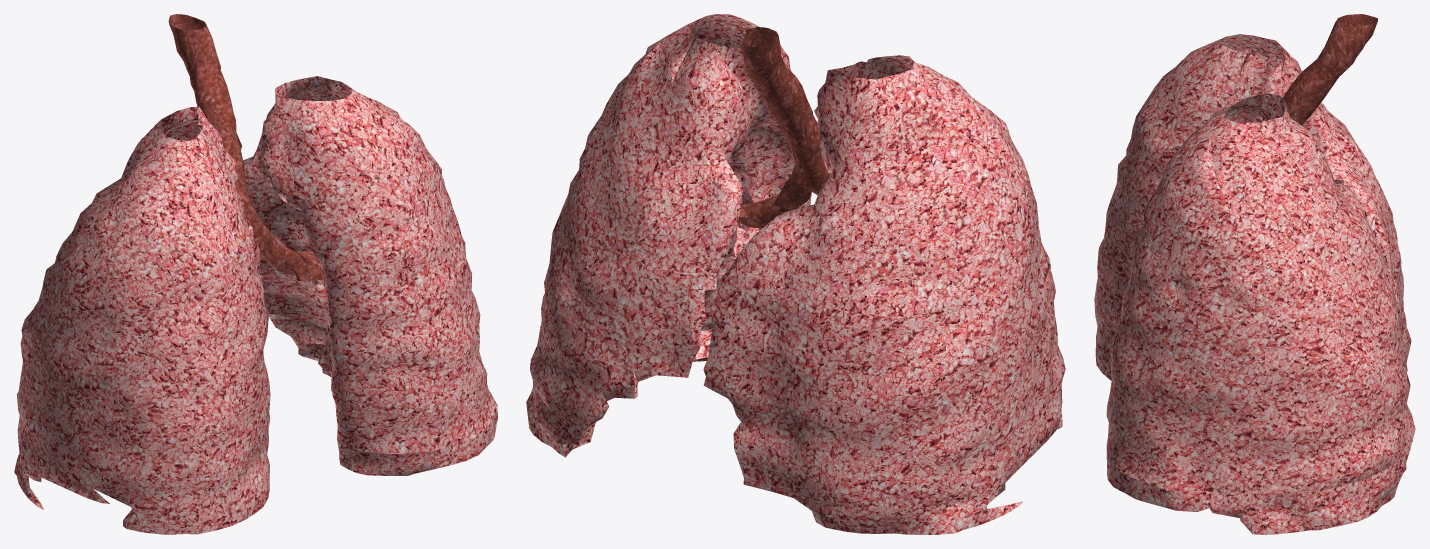
Rendered from lungs.dae.
3 renders of one model, left to right at view 1: azimuth 30°, elevation 25°; view 2: azimuth 150°, elevation 25°; view 3: azimuth 270°, elevation 25°, orthographic. The views are drawn at different scales.
Visible parts, largest first — view 1: group_0 (×3); view 2: group_0 (×3); view 3: group_0 (×3).
Part boxes in pixels (bbox=[...]): group_0 (×3): bbox=[14, 14, 497, 534]; group_0 (×3): bbox=[526, 14, 1065, 534]; group_0 (×3): bbox=[1094, 14, 1415, 534].
Size of the model in its own units: 245 by 161 by 225.
